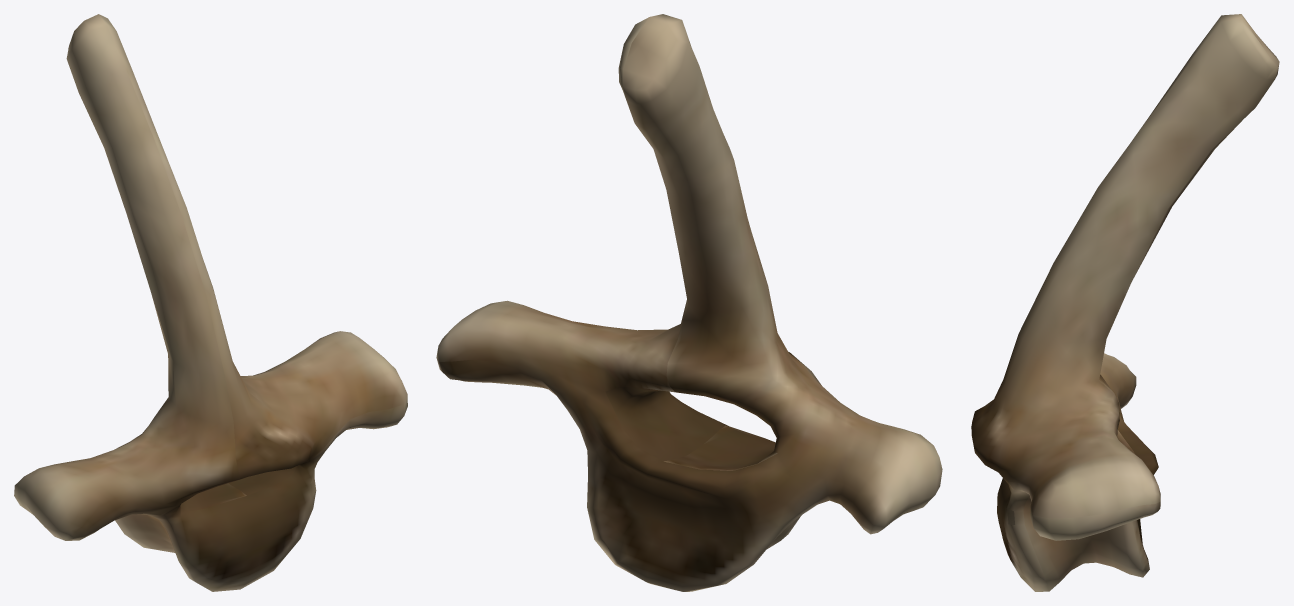
The model's file is Thoracic_Vertebrae8.glb.
The picture shows the model from 3 angles, left to right: view 1: azimuth 30°, elevation 25°; view 2: azimuth 150°, elevation 25°; view 3: azimuth 270°, elevation 25°; orthographic projection. The views are drawn at different scales.
Visible parts, largest first — view 1: Horse_low:SelSet_49Merged_L_Frt_Sesamoid_Bones_1; view 2: Horse_low:SelSet_49Merged_L_Frt_Sesamoid_Bones_1; view 3: Horse_low:SelSet_49Merged_L_Frt_Sesamoid_Bones_1.
Boxes of the visible parts, bbox=[...] form: Horse_low:SelSet_49Merged_L_Frt_Sesamoid_Bones_1: bbox=[14, 14, 407, 591]; Horse_low:SelSet_49Merged_L_Frt_Sesamoid_Bones_1: bbox=[436, 14, 942, 591]; Horse_low:SelSet_49Merged_L_Frt_Sesamoid_Bones_1: bbox=[971, 14, 1279, 591].
Size of the model in its own units: 0.1365 by 0.1819 by 0.0935.
1 material, 1 textured.
